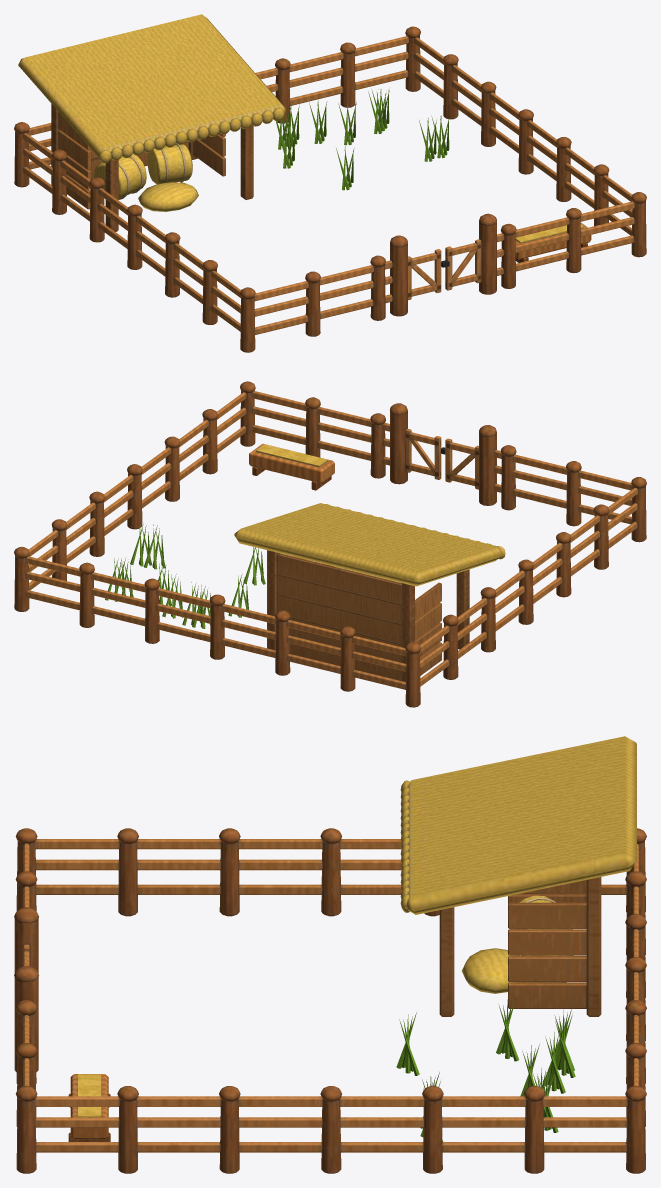
The model's file is ostrich_ranch.glb.
3 views of the same model, one above another, from view 1: azimuth 30°, elevation 25°; view 2: azimuth 150°, elevation 25°; view 3: azimuth 270°, elevation 25° (orthographic). The views are drawn at different scales.
Visible parts, largest first — view 1: ostrich_ranch; view 2: ostrich_ranch; view 3: ostrich_ranch.
Boxes of the visible parts, left/top/right/bottom form: ostrich_ranch: left=14, top=14, right=646, bottom=352; ostrich_ranch: left=14, top=381, right=646, bottom=707; ostrich_ranch: left=14, top=736, right=646, bottom=1173.
Bounding box in the file's own units: 3 × 0.9759 × 3.01.
1 material, 1 textured.
